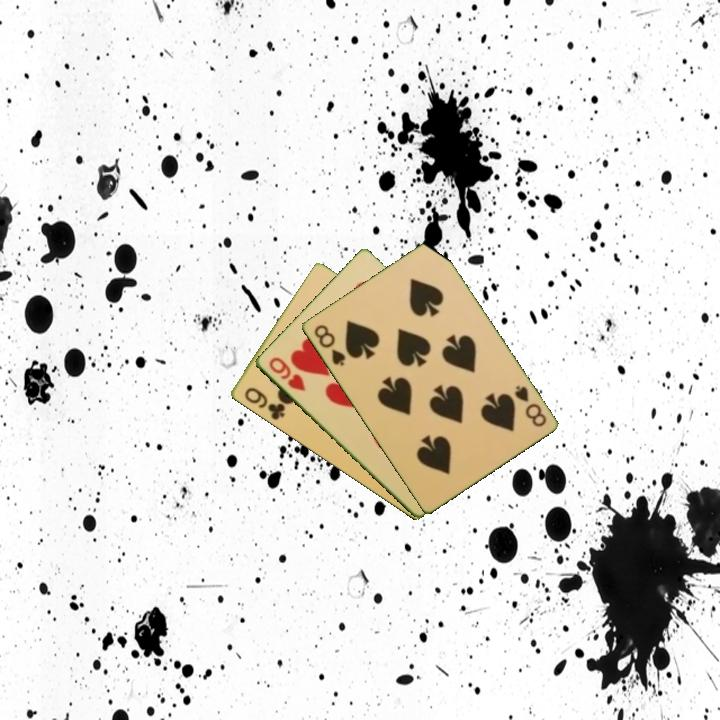8s: (510, 382, 549, 430), (310, 321, 348, 369)
9c: (240, 384, 288, 423)
9h: (265, 353, 308, 394)
